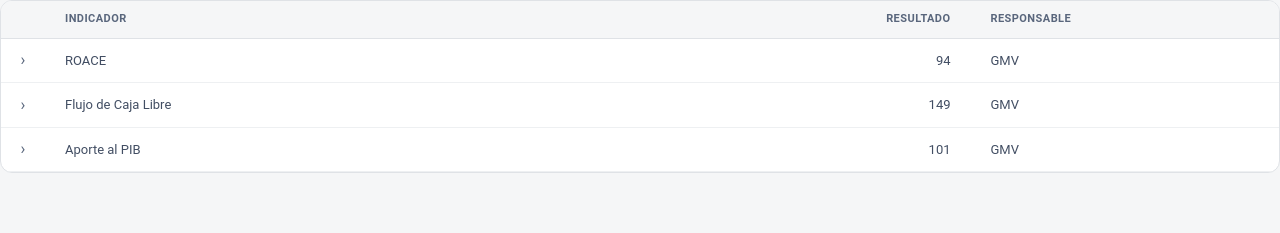
Test case: DataTable › expandable rows › opens and closes the detail row by click
The width and height of the screenshot is (1280, 233).
What coordinates should you click on to do the following:
click the button named "Detalle de ROACE"
I would click on:
 (23, 60)
Its box is [11, 48, 35, 72].
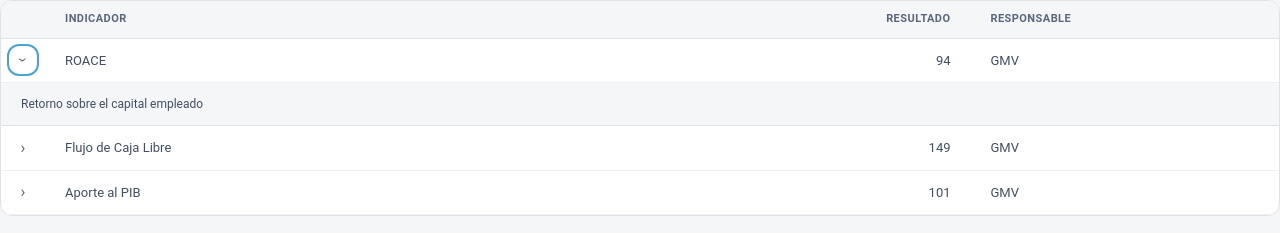
Result: the button named "Detalle de ROACE" is expanded
What coordinates should you click on to do the following:
click the button named "Detalle de ROACE"
I would click on:
 (23, 60)
Its box is [11, 48, 35, 72].
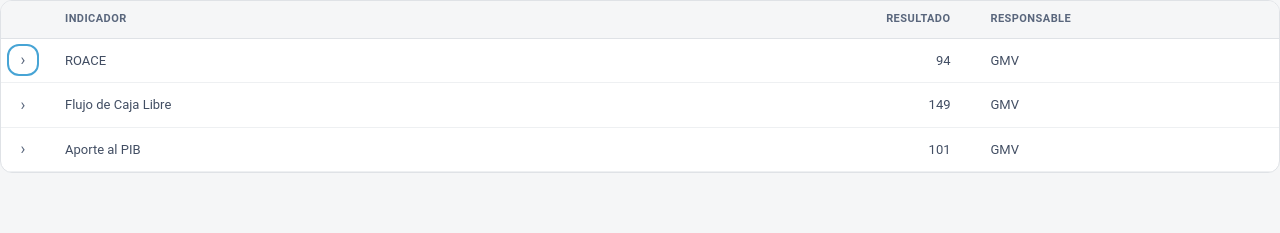
Result: the button named "Detalle de ROACE" is collapsed at [11, 48, 35, 72]
